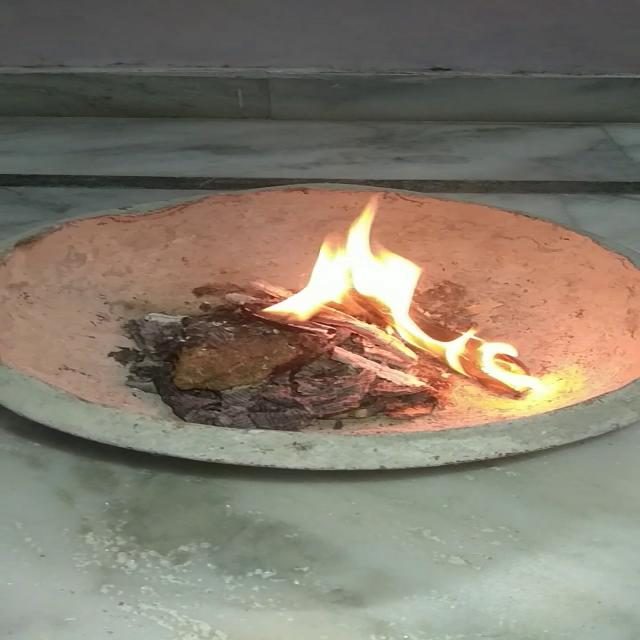fire: (277, 205, 537, 395)
